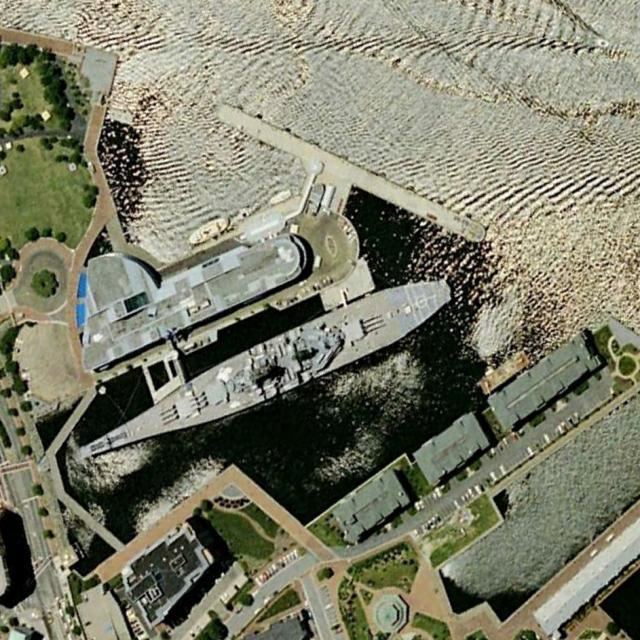Other Warship: (67, 263, 459, 480)
